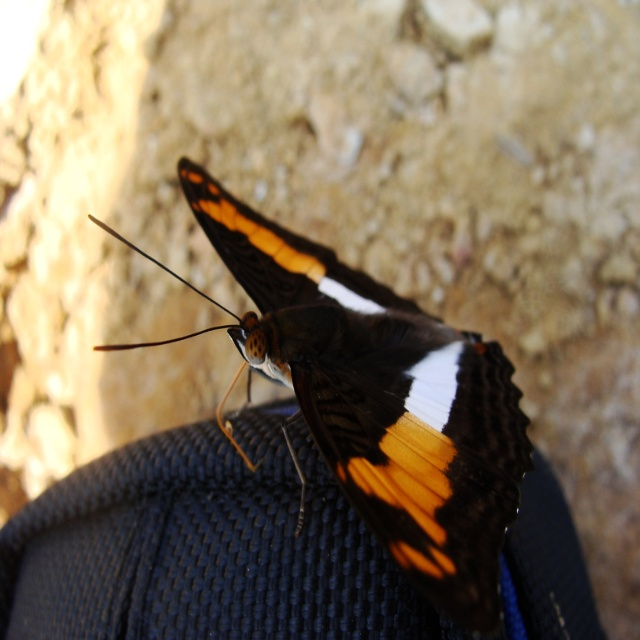Butterfly: (83, 127, 565, 620)
